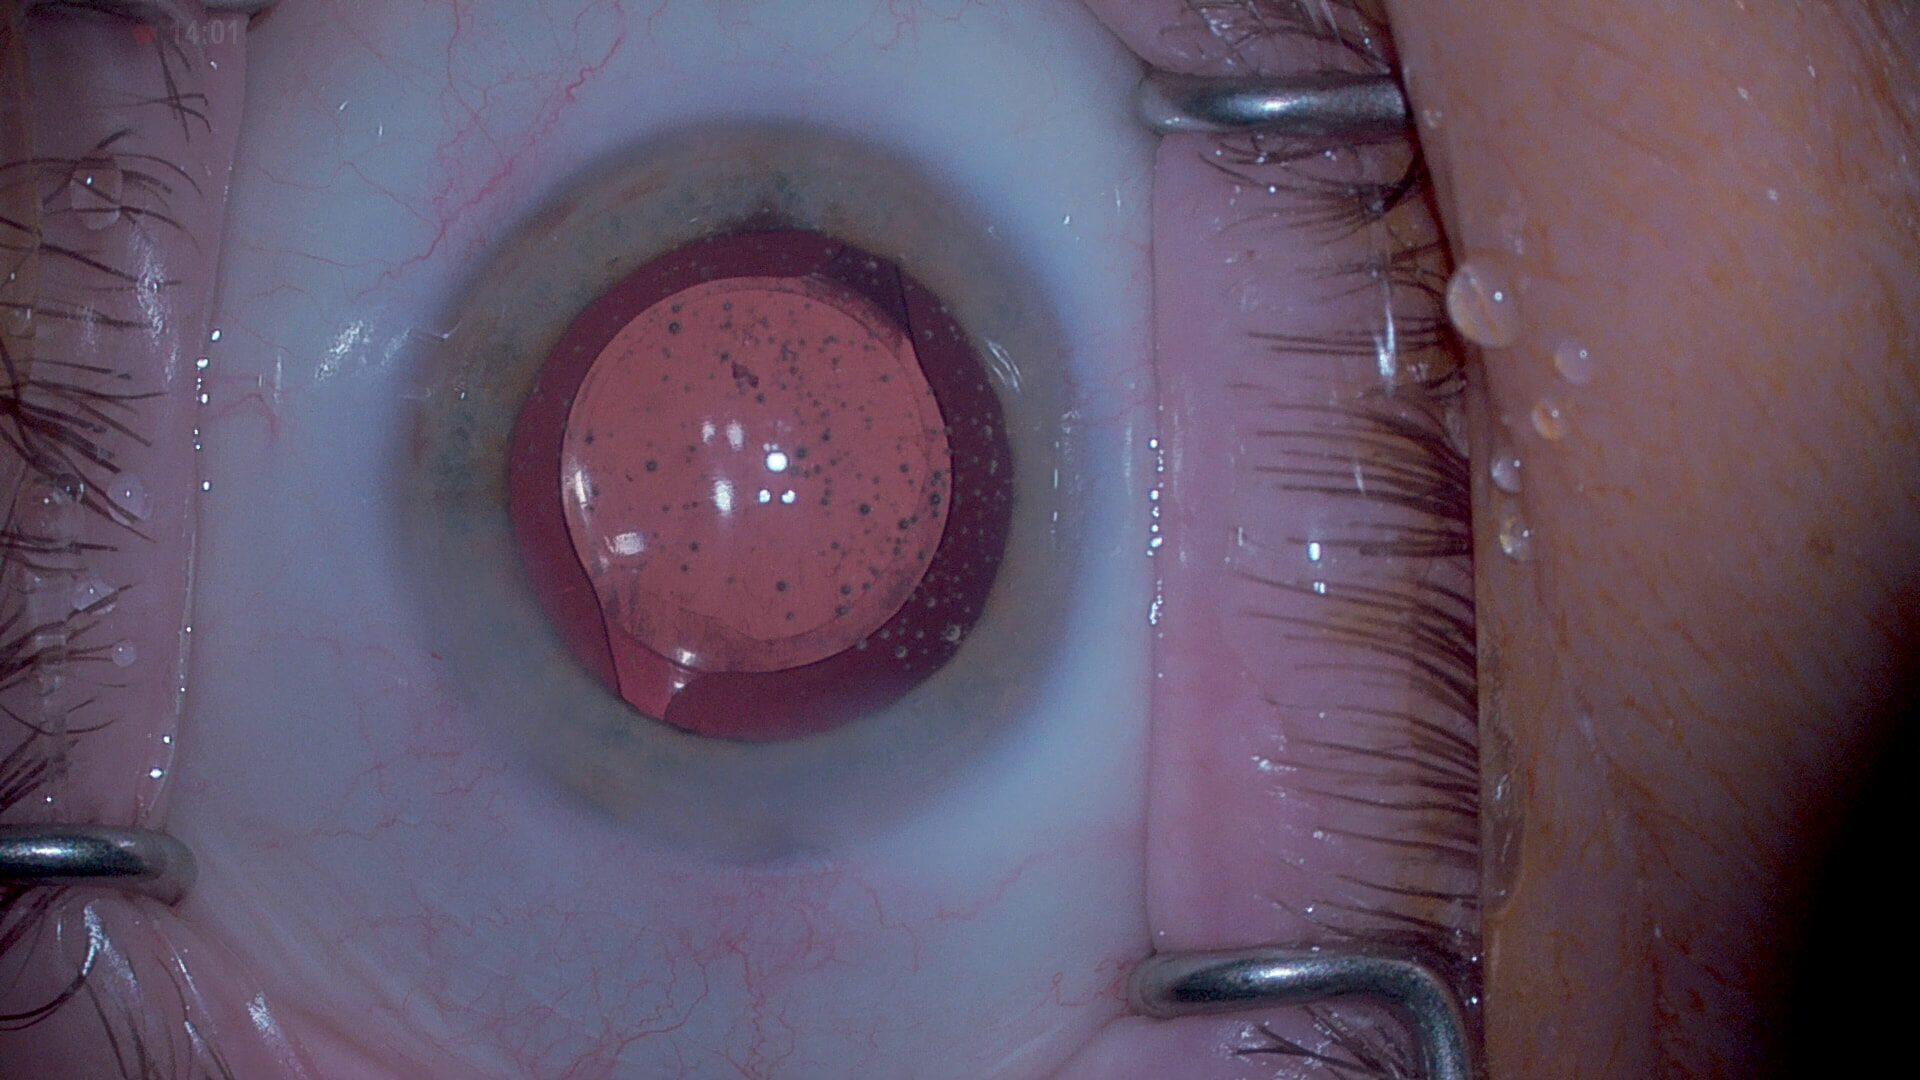iris: (416, 134, 1083, 841)
pupil: (505, 224, 1018, 741)
